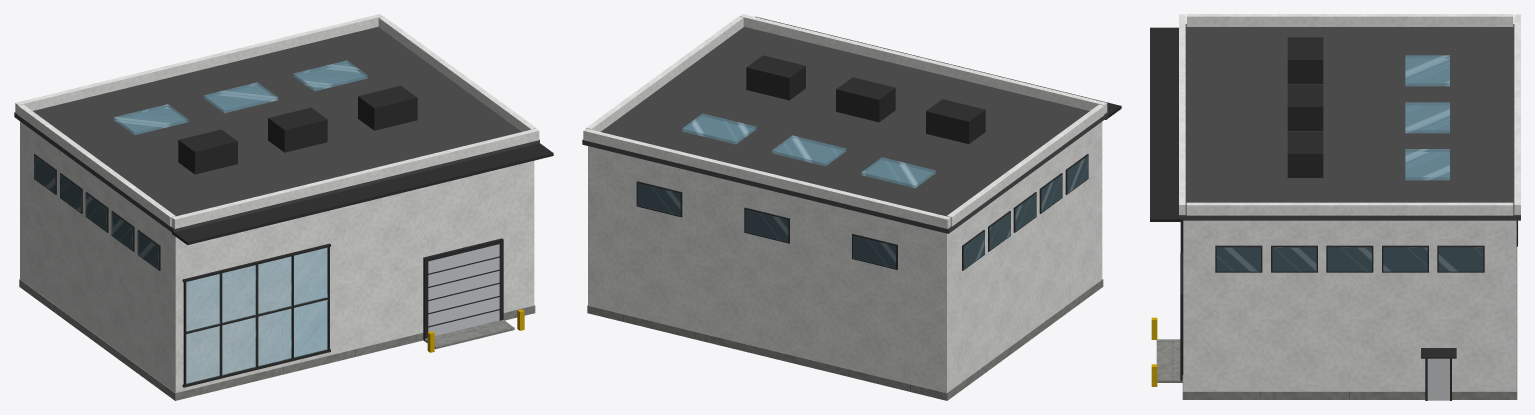
File: warehouse_industrial_variant_c.glb
3 renders of one model, left to right at view 1: azimuth 30°, elevation 25°; view 2: azimuth 150°, elevation 25°; view 3: azimuth 270°, elevation 25°, orthographic. The views are drawn at different scales.
Parts seen in each view (by area): view 1: plaster_F4F4F2, flat_4A4A4A, flat_2C2C2C, glass_87CEEB, flat_D4D8DB, concrete_8C8C88; view 2: plaster_F4F4F2, flat_4A4A4A, flat_2C2C2C, glass_87CEEB, concrete_8C8C88; view 3: plaster_F4F4F2, flat_4A4A4A, flat_2C2C2C, glass_87CEEB, concrete_8C8C88, flat_D4D8DB.
Part boxes in pixels (x1=…): plaster_F4F4F2: x1=15, y1=14, x2=539, y2=392; flat_4A4A4A: x1=14, y1=26, x2=539, y2=232; flat_2C2C2C: x1=34, y1=85, x2=553, y2=387; glass_87CEEB: x1=34, y1=60, x2=367, y2=383; flat_D4D8DB: x1=428, y1=244, x2=499, y2=335; concrete_8C8C88: x1=19, y1=279, x2=535, y2=400; plaster_F4F4F2: x1=583, y1=14, x2=1107, y2=392; flat_4A4A4A: x1=582, y1=26, x2=1107, y2=233; flat_2C2C2C: x1=636, y1=16, x2=1121, y2=270; glass_87CEEB: x1=638, y1=113, x2=1088, y2=268; concrete_8C8C88: x1=587, y1=279, x2=1103, y2=400; plaster_F4F4F2: x1=1179, y1=14, x2=1520, y2=391; flat_4A4A4A: x1=1179, y1=24, x2=1520, y2=220; flat_2C2C2C: x1=1150, y1=27, x2=1517, y2=400; glass_87CEEB: x1=1217, y1=55, x2=1518, y2=271; concrete_8C8C88: x1=1156, y1=247, x2=1517, y2=399; flat_D4D8DB: x1=1427, y1=358, x2=1449, y2=400.
Bounding box in the file's own units: 21.2 × 10.45 × 16.7.
Materials: 7 (7 with a texture image).
